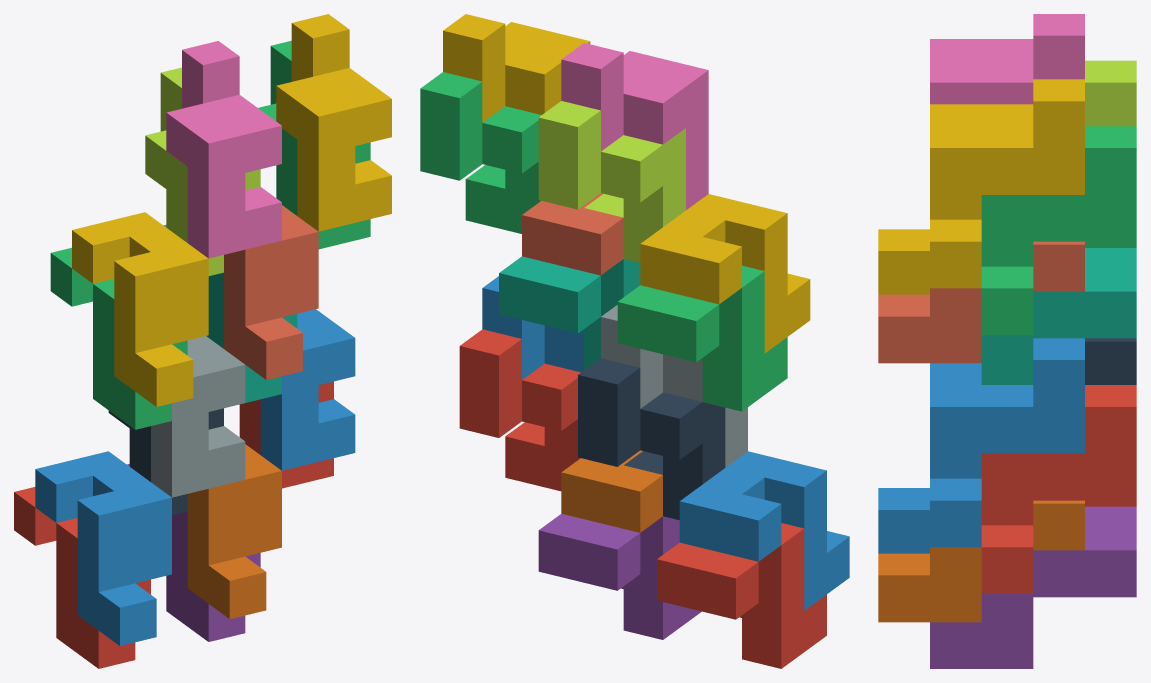
File: tiling.obj
3 views of the same model, side by side, from view 1: azimuth 30°, elevation 25°; view 2: azimuth 150°, elevation 25°; view 3: azimuth 270°, elevation 25° (orthographic). The views are drawn at different scales.
Visible parts, largest first — view 1: copy_2_domain_8, copy_2_domain_4, copy_1_domain_2, copy_1_domain_4, copy_1_domain_6, copy_1_domain_8, copy_2_domain_6, copy_2_domain_2, copy_1_domain_3, copy_1_domain_1, copy_2_domain_3, copy_2_domain_7 (+4 smaller); view 2: copy_1_domain_4, copy_1_domain_2, copy_2_domain_3, copy_2_domain_1, copy_1_domain_3, copy_1_domain_1, copy_2_domain_7, copy_2_domain_5, copy_2_domain_4, copy_1_domain_5, copy_2_domain_8, copy_1_domain_7 (+4 smaller); view 3: copy_2_domain_8, copy_2_domain_6, copy_2_domain_5, copy_2_domain_7, copy_1_domain_5, copy_2_domain_4, copy_1_domain_6, copy_1_domain_8, copy_1_domain_7, copy_2_domain_3, copy_1_domain_2, copy_1_domain_4 (+1 smaller).
Boxes of the visible parts, <box> form: copy_2_domain_8: <box>276,14,391,231</box>; copy_2_domain_4: <box>166,41,281,258</box>; copy_1_domain_2: <box>35,451,171,645</box>; copy_1_domain_4: <box>72,212,208,406</box>; copy_1_domain_6: <box>187,444,281,618</box>; copy_1_domain_8: <box>224,205,318,379</box>; copy_2_domain_6: <box>260,309,355,470</box>; copy_2_domain_2: <box>151,336,245,497</box>; copy_1_domain_3: <box>50,247,187,429</box>; copy_1_domain_1: <box>14,487,150,668</box>; copy_2_domain_3: <box>145,67,260,275</box>; copy_2_domain_7: <box>258,40,370,249</box>; copy_1_domain_4: <box>640,194,810,353</box>; copy_1_domain_2: <box>679,451,849,610</box>; copy_2_domain_3: <box>538,101,685,262</box>; copy_2_domain_1: <box>578,358,725,520</box>; copy_1_domain_3: <box>617,265,787,411</box>; copy_1_domain_1: <box>657,523,826,668</box>; copy_2_domain_7: <box>420,72,541,233</box>; copy_2_domain_5: <box>459,329,580,491</box>; copy_2_domain_4: <box>561,43,708,209</box>; copy_1_domain_5: <box>538,513,701,639</box>; copy_2_domain_8: <box>443,14,590,122</box>; copy_1_domain_7: <box>499,256,640,369</box>; copy_2_domain_8: <box>930,79,1084,288</box>; copy_2_domain_6: <box>930,338,1084,547</box>; copy_2_domain_5: <box>981,385,1136,593</box>; copy_2_domain_7: <box>981,126,1136,335</box>; copy_1_domain_5: <box>930,506,1136,668</box>; copy_2_domain_4: <box>930,14,1084,104</box>; copy_1_domain_6: <box>878,500,1084,622</box>; copy_1_domain_8: <box>878,241,1084,363</box>; copy_1_domain_7: <box>981,248,1136,384</box>; copy_2_domain_3: <box>1085,60,1136,126</box>; copy_1_domain_2: <box>878,488,929,553</box>; copy_1_domain_4: <box>878,229,929,294</box>.
Bounding box in the file's own units: 8 × 14 × 5.
